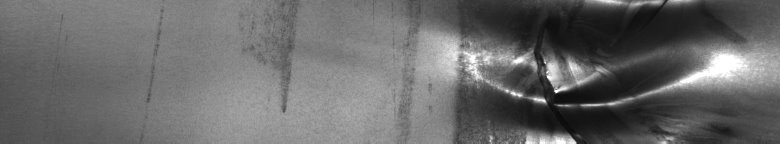ke: (460, 4, 703, 136)
